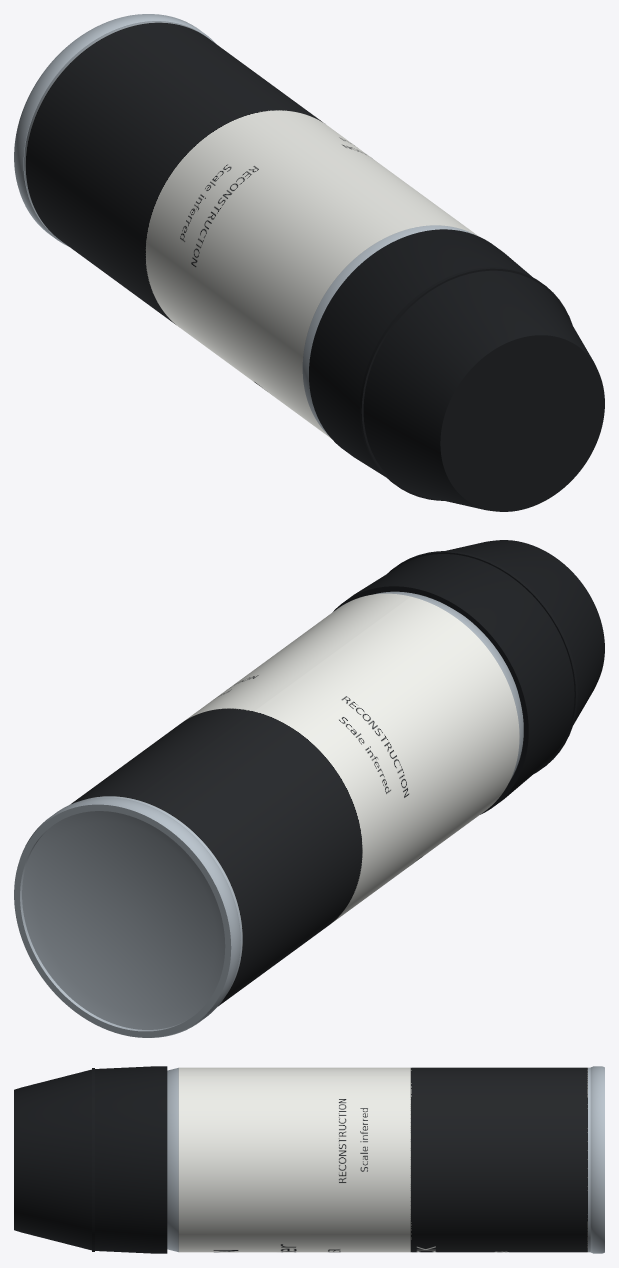
The model's file is supply_krylon_51602.glb.
The picture shows the model from 3 angles, top to bottom: view 1: azimuth 30°, elevation 25°; view 2: azimuth 150°, elevation 25°; view 3: azimuth 270°, elevation 25°; orthographic projection. The views are drawn at different scales.
Parts seen in each view (by area): view 1: can_identification_text, cap_hollow_shell, rolled_lower_seam, sealed_can_shell, cap_moulded_shoulder; view 2: can_identification_text, sealed_can_shell, cap_hollow_shell, rolled_lower_seam, cap_moulded_shoulder; view 3: can_identification_text, cap_hollow_shell, rolled_lower_seam, sealed_can_shell, cap_moulded_shoulder.
Boxes of the visible parts, x1,y1,x2,y2 form: can_identification_text: (25,22,478,437); cap_hollow_shell: (309,229,604,511); rolled_lower_seam: (14,14,216,246); sealed_can_shell: (24,21,475,435); cap_moulded_shoulder: (359,267,572,500); can_identification_text: (70,593,519,1006); sealed_can_shell: (22,591,523,1029); cap_hollow_shell: (333,540,604,814); rolled_lower_seam: (14,797,240,1037); cap_moulded_shoulder: (387,551,577,773); can_identification_text: (178,1067,587,1252); cap_hollow_shell: (14,1066,167,1253); rolled_lower_seam: (590,1066,604,1253); sealed_can_shell: (167,1067,590,1252); cap_moulded_shoulder: (92,1068,94,1251).
Size of the model in its own units: 0.066 by 0.066 by 0.208.
8 materials, 1 textured.
